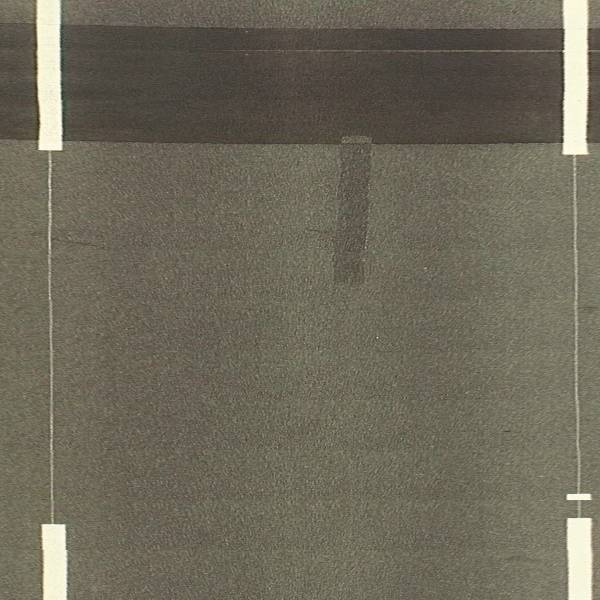road_damage: (76, 129, 558, 155), (65, 18, 559, 40)
